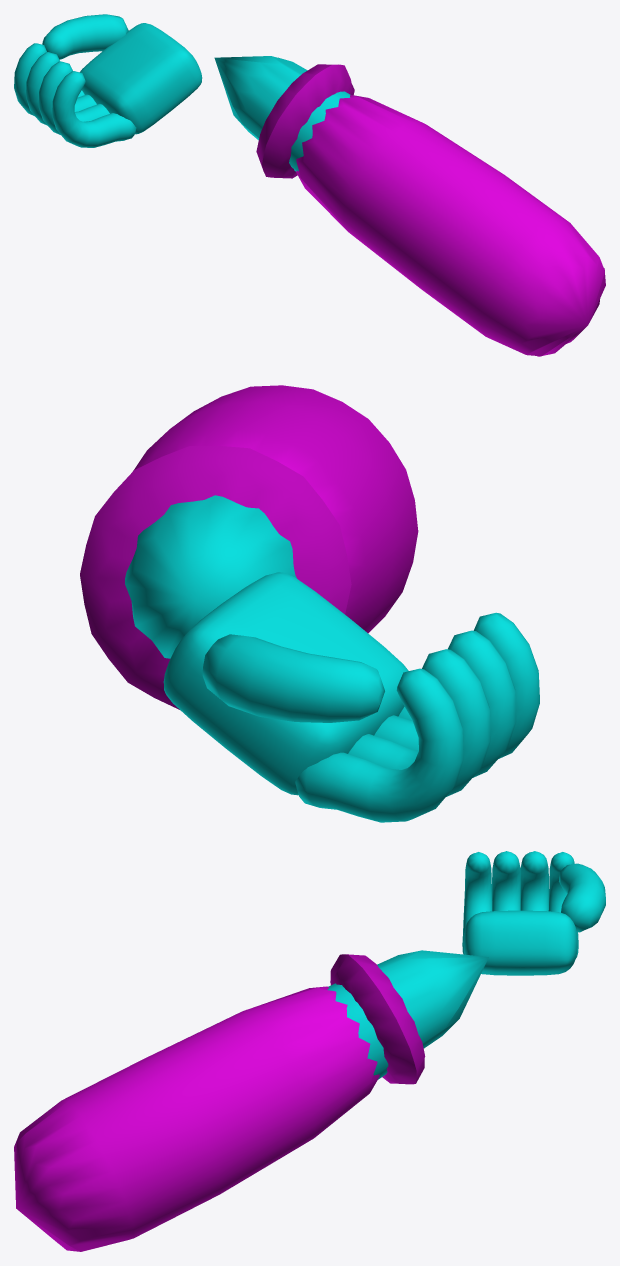
File: fp_arm.glb
3 views of the same model, one above another, from view 1: azimuth 30°, elevation 25°; view 2: azimuth 150°, elevation 25°; view 3: azimuth 270°, elevation 25° (orthographic). The views are drawn at different scales.
Parts seen in each view (by area): view 1: fp_arm; view 2: fp_arm; view 3: fp_arm.
Boxes of the visible parts, x1=… form: fp_arm: x1=14, y1=14, x2=605, y2=356; fp_arm: x1=80, y1=385, x2=539, y2=822; fp_arm: x1=14, y1=851, x2=605, y2=1251.
Bounding box in the file's own units: 0.4018 × 0.2301 × 0.5101.
